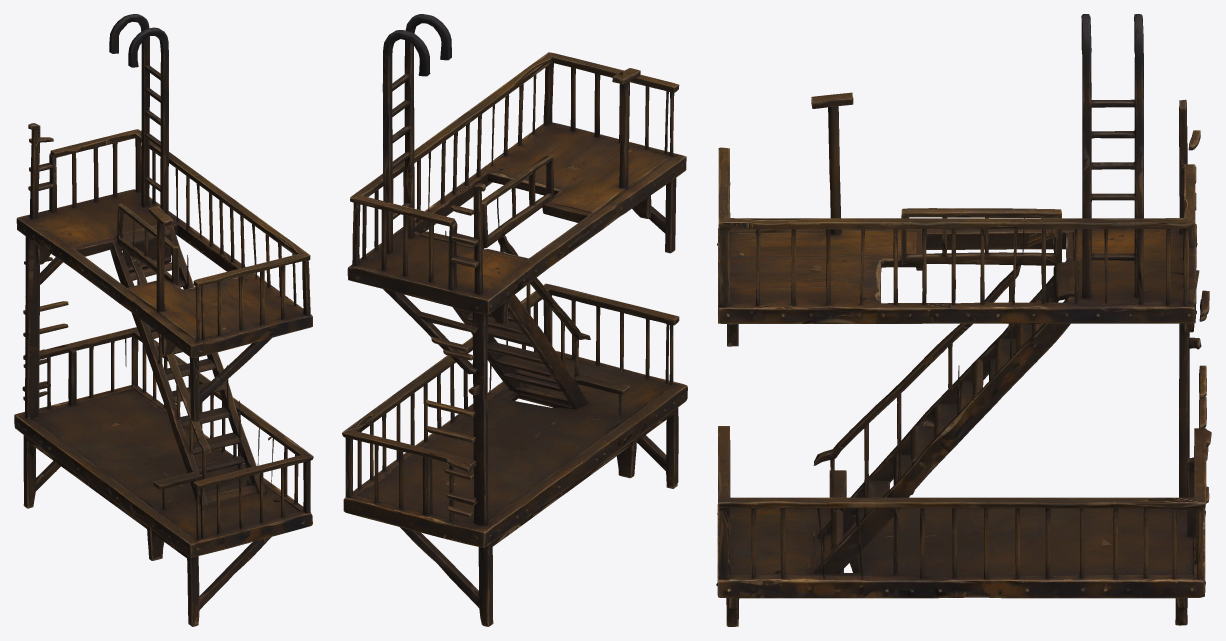
The model's file is fire-escape.glb.
3 views of the same model, side by side, from view 1: azimuth 30°, elevation 25°; view 2: azimuth 150°, elevation 25°; view 3: azimuth 270°, elevation 25° (orthographic). The views are drawn at different scales.
Parts seen in each view (by area): view 1: SM_FireEscape; view 2: SM_FireEscape; view 3: SM_FireEscape.
Boxes of the visible parts, box(x1,y1,x2,y2) form: SM_FireEscape: box(14, 14, 313, 626); SM_FireEscape: box(342, 14, 687, 626); SM_FireEscape: box(716, 14, 1211, 626).
Bounding box in the file's own units: 2.74 × 10 × 6.75.
1 material, 1 textured.
